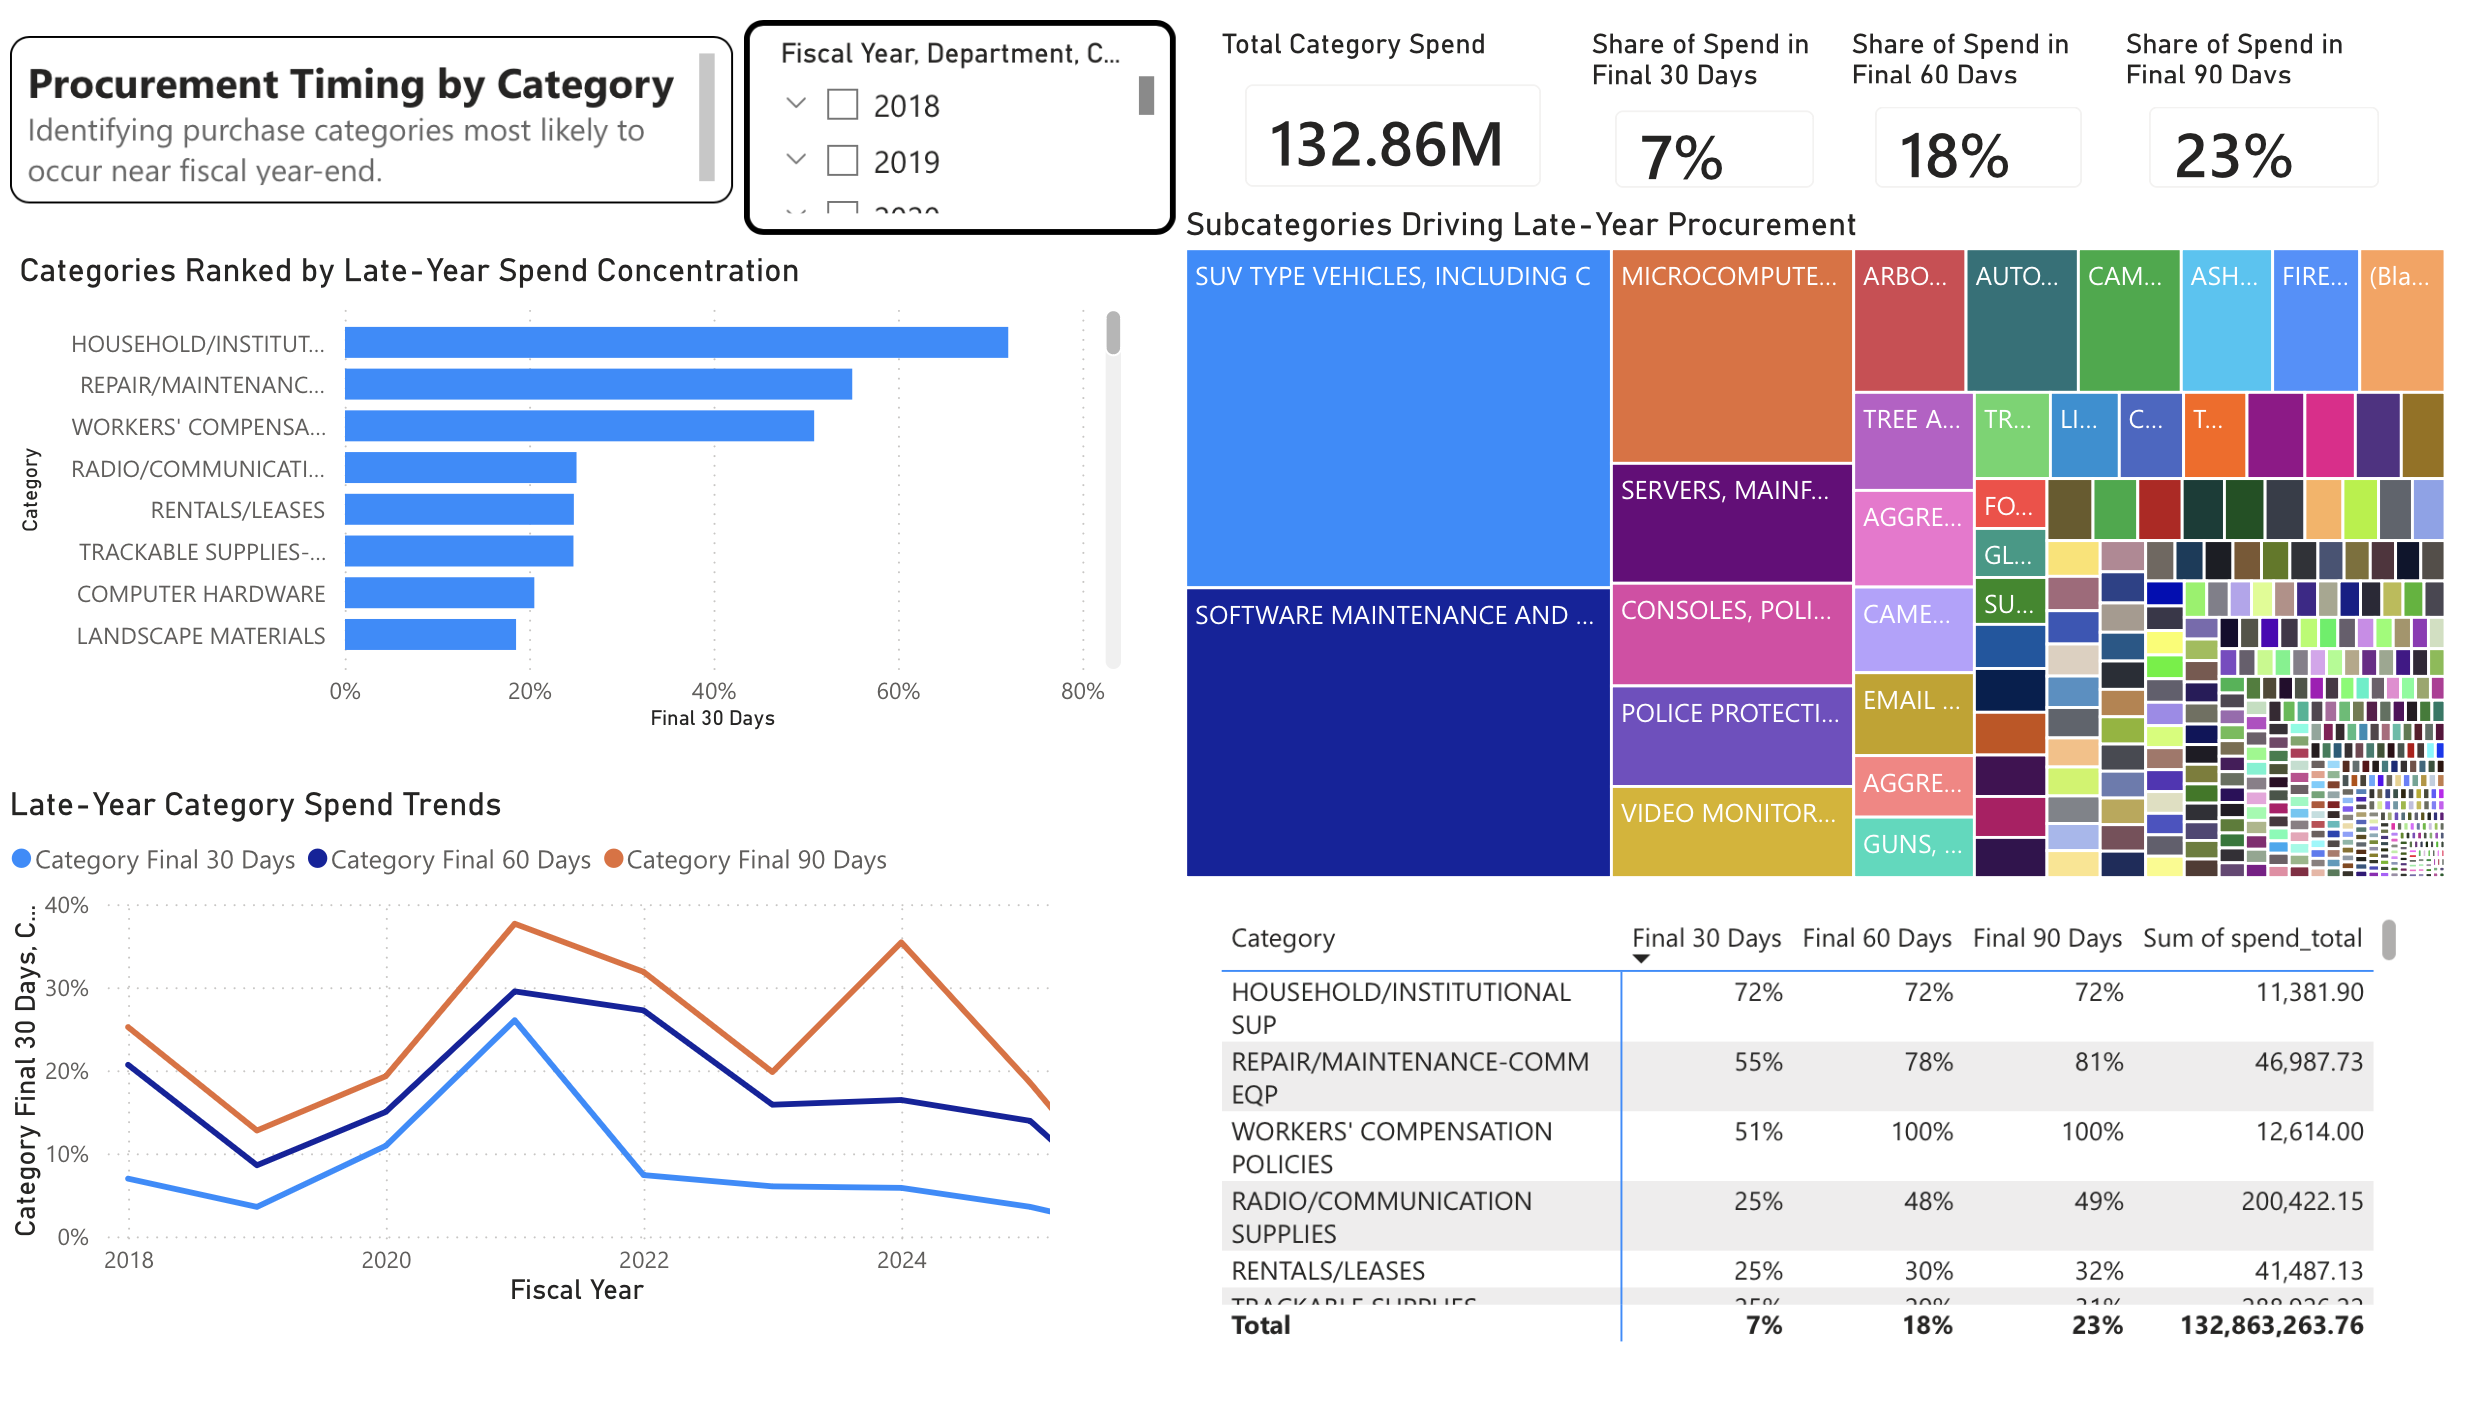

Layout of this report page (visuals, bound fields, positions):
{"tool":"powerbi","page":{"name":"Procurement Timing by Category","canvas":[1280,720],"ordinal":1},"visuals":[{"type":"textbox","box":[4.9,23.3,373.5,86.5],"z":0},{"type":"cardVisual","title":"Total Category Spend","fields":{"Data":["mart po_category_timing_dept_fy_mart.Total Category Spend"]},"box":[625.6,22.1,187.1,98.1],"z":1000},{"type":"cardVisual","title":"Share of Spend in Final 30 Days","fields":{"Data":["mart po_category_timing_dept_fy_mart.Category Final 30 Days"]},"box":[816.9,22.1,138,98.1],"z":2000},{"type":"cardVisual","title":"Share of Spend in Final 60 Days","fields":{"Data":["mart po_category_timing_dept_fy_mart.Category Final 60 Days"]},"box":[951.8,22.1,141.7,98.1],"z":3000},{"type":"cardVisual","title":"Share of Spend in Final 90 Days","fields":{"Data":["mart po_category_timing_dept_fy_mart.Category Final 90 Days"]},"box":[1093.5,22.1,153.9,98.1],"z":4000},{"type":"barChart","title":"Categories Ranked by Late-Year Spend Concentration","fields":{"Category":["dim_category.category"],"Y":["mart po_category_timing_dept_fy_mart.Category Final 30 Days"]},"box":[4.9,137.4,578.9,249.6],"z":5000},{"type":"lineChart","title":"Late-Year Category Spend Trends","fields":{"Category":["mart po_category_timing_dept_fy_mart.fiscal_year"],"Y":["mart po_category_timing_dept_fy_mart.Category Final 30 Days","mart po_category_timing_dept_fy_mart.Category Final 60 Days","mart po_category_timing_dept_fy_mart.Category Final 90 Days"]},"box":[0,412.7,550.1,270.5],"z":6000},{"type":"treemap","title":"Subcategories Driving Late-Year Procurement","fields":{"Group":["dim_category_subcategory.subcategory"],"Values":["Sum(mart po_category_timing_dept_fy_mart.spend_last_30d)"]},"box":[607.8,114.1,660.5,350.2],"z":7000},{"type":"pivotTable","fields":{"Rows":["dim_category.category"],"Values":["mart po_category_timing_dept_fy_mart.Category Final 30 Days","mart po_category_timing_dept_fy_mart.Category Final 60 Days","mart po_category_timing_dept_fy_mart.Category Final 90 Days","Sum(mart po_category_timing_dept_fy_mart.spend_total)"]},"box":[625.6,474.1,617.6,228.8],"z":8000},{"type":"slicer","fields":{"Values":["mart po_category_timing_dept_fy_mart.fiscal_year","mart po_category_timing_dept_fy_mart.dept_canonical","mart po_category_timing_dept_fy_mart.category"]},"box":[378.4,19,222.6,111],"z":9000}]}

Visuals, with their boxes in screenshot pixels (x1, y1, x2, y2), scaled from the page's 1280x720 canvas onto the 2474x1428 screenshot:
textbox: l=9, t=46, r=731, b=218
"Total Category Spend" cardVisual: l=1209, t=44, r=1571, b=238
"Share of Spend in Final 30 Days" cardVisual: l=1579, t=44, r=1846, b=238
"Share of Spend in Final 60 Days" cardVisual: l=1840, t=44, r=2114, b=238
"Share of Spend in Final 90 Days" cardVisual: l=2114, t=44, r=2411, b=238
"Categories Ranked by Late-Year Spend Concentration" barChart: l=9, t=273, r=1128, b=768
"Late-Year Category Spend Trends" lineChart: l=0, t=819, r=1063, b=1355
"Subcategories Driving Late-Year Procurement" treemap: l=1175, t=226, r=2451, b=921
pivotTable - dim_category.category x mart po_category_timing_dept_fy_mart.Category Final 30 Days: l=1209, t=940, r=2403, b=1394
slicer - mart po_category_timing_dept_fy_mart.fiscal_year x mart po_category_timing_dept_fy_mart.dept_canonical: l=731, t=38, r=1162, b=258
